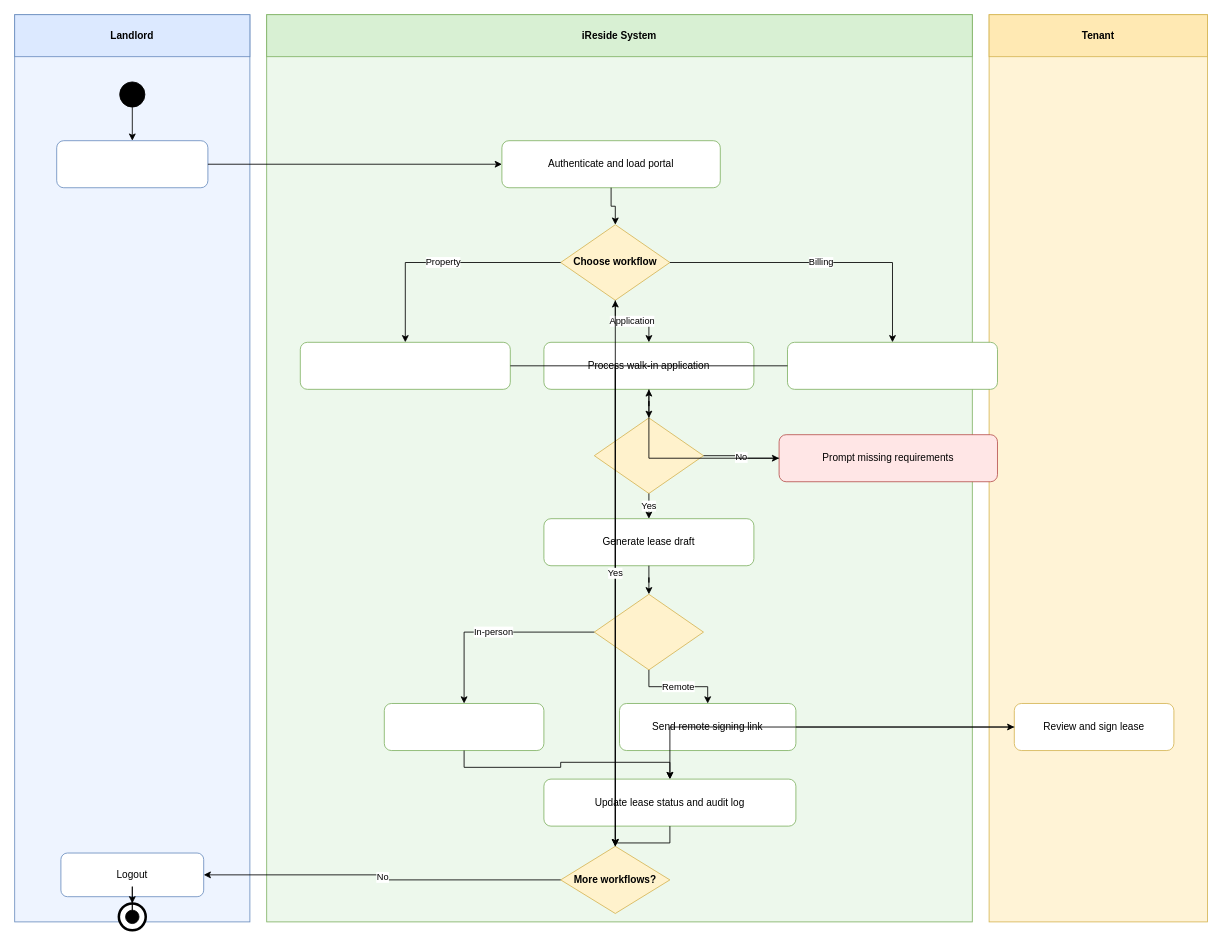
Image size: 1222x946. Some labels were removed from this diagram. Each missing label, with the box of its shape:
Application complete?: (593, 417, 704, 494)
Create invoice or review ledger: (787, 341, 998, 389)
Enter credentials: (56, 140, 208, 188)
Manage property and units: (299, 341, 510, 389)
Select signing mode: (593, 593, 704, 670)
Sign in-person: (383, 703, 544, 751)
